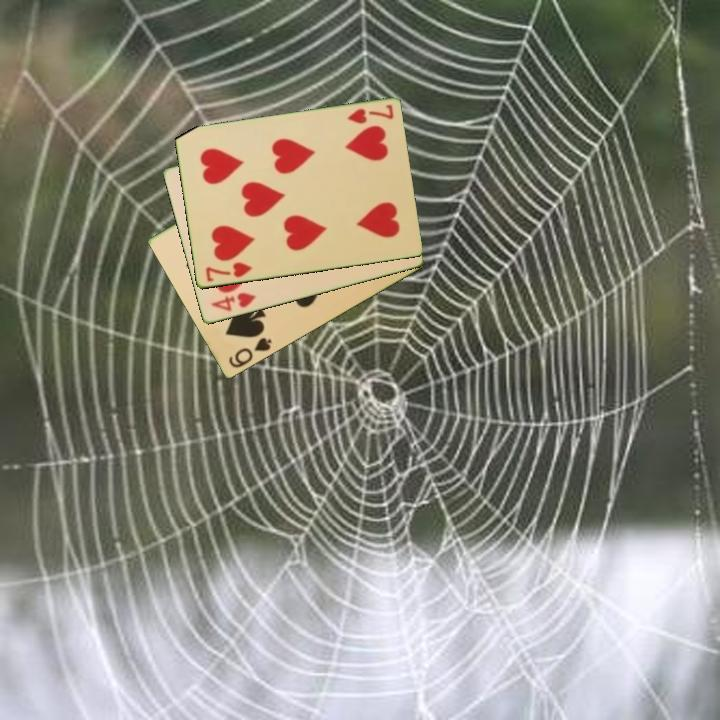4h: (207, 289, 259, 315)
6s: (225, 334, 275, 371)
7h: (202, 259, 255, 285), (344, 101, 396, 127)
